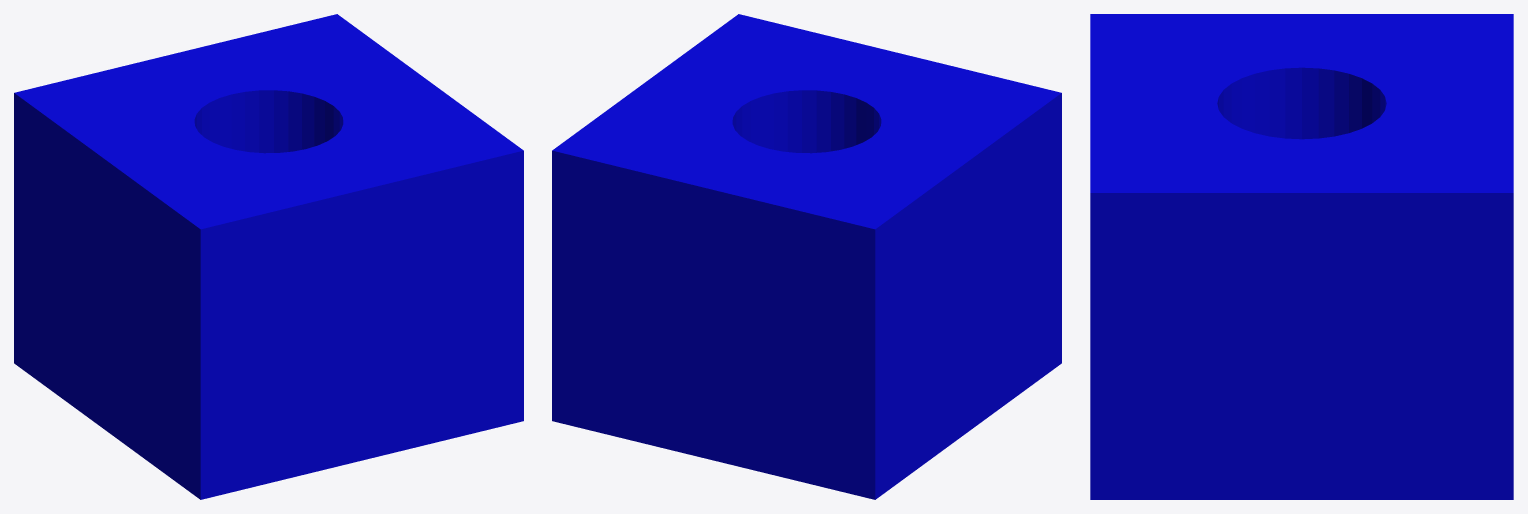
Rendered from insert_task_block3.dae.
The picture shows the model from 3 angles, left to right: view 1: azimuth 30°, elevation 25°; view 2: azimuth 150°, elevation 25°; view 3: azimuth 270°, elevation 25°; orthographic projection. The views are drawn at different scales.
Parts seen in each view (by area): view 1: Cube; view 2: Cube; view 3: Cube.
Part boxes in pixels (x1,y1,x2,y2): Cube: (14,14,523,499); Cube: (552,14,1061,499); Cube: (1090,14,1513,499).
Bounding box in the file's own units: 0.1 × 0.1 × 0.08.
